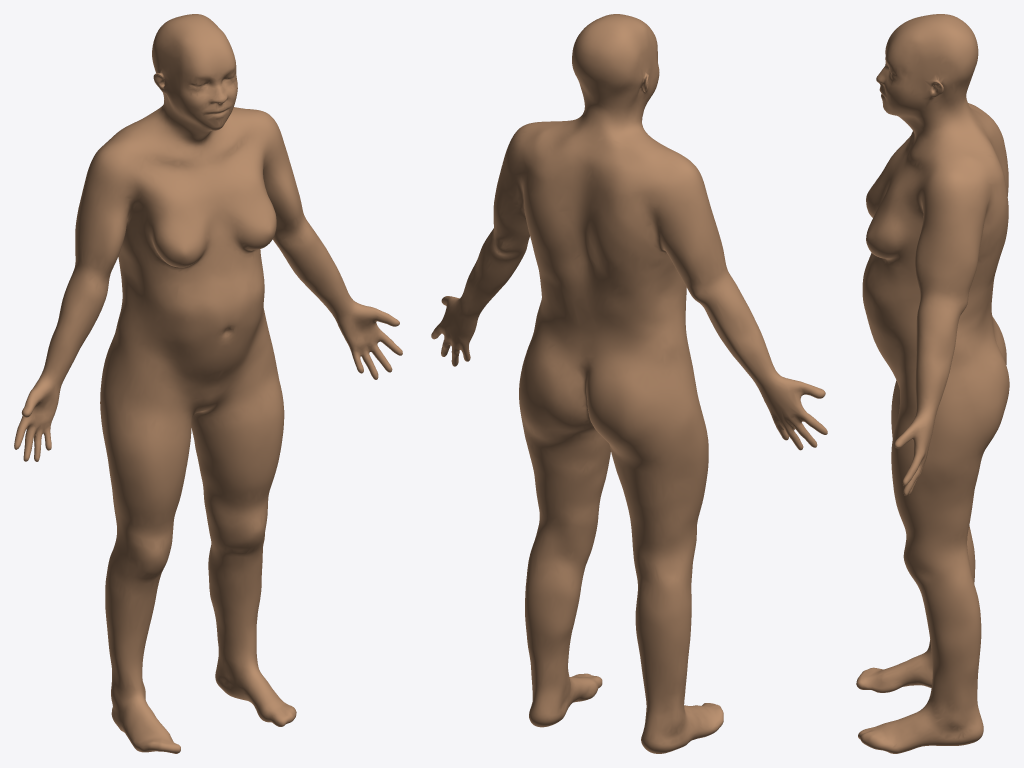
Rendered from body-female-skin-standard.glb.
3 renders of one model, left to right at view 1: azimuth 30°, elevation 25°; view 2: azimuth 150°, elevation 25°; view 3: azimuth 270°, elevation 25°, orthographic.
Parts seen in each view (by area): view 1: female_body_base; view 2: female_body_base; view 3: female_body_base.
Part boxes in pixels (bbox=[...]): female_body_base: bbox=[14, 14, 402, 753]; female_body_base: bbox=[431, 14, 827, 753]; female_body_base: bbox=[856, 14, 1009, 753].
Size of the model in its own units: 0.9674 by 1.67 by 0.3292.
